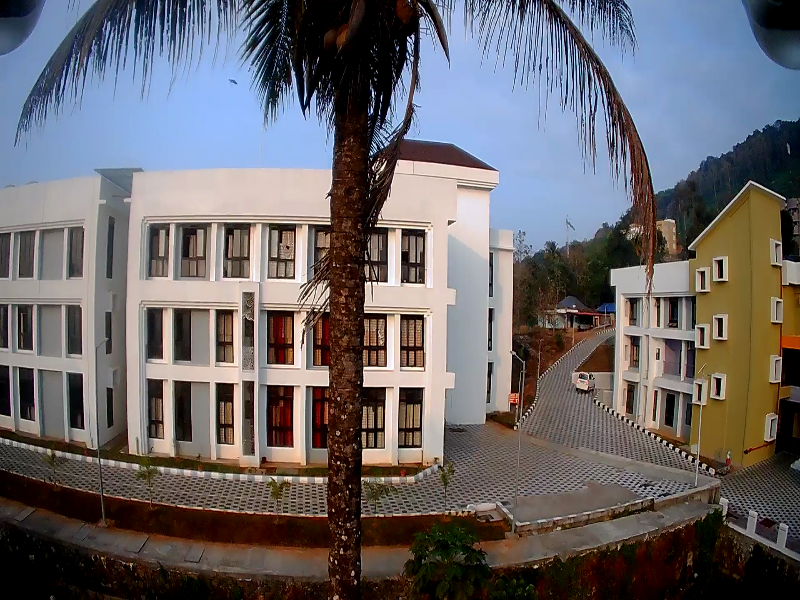coconut: (396, 6, 419, 35), (335, 29, 356, 57), (319, 28, 338, 57)
